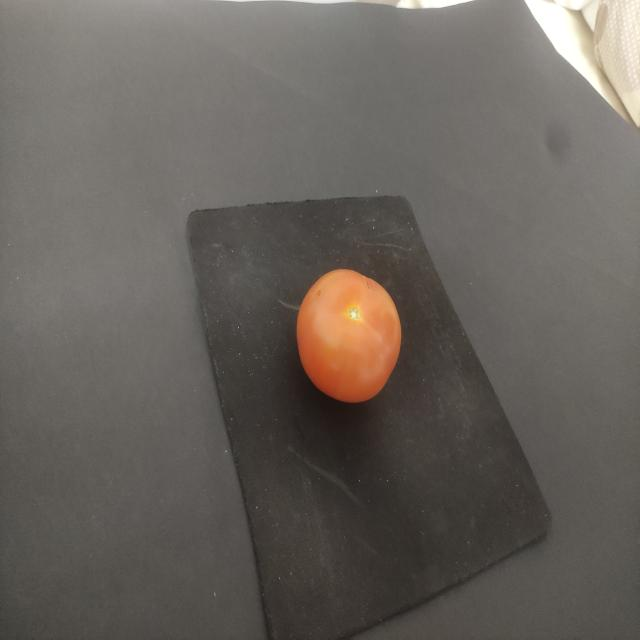sari: (295, 250, 404, 414)
